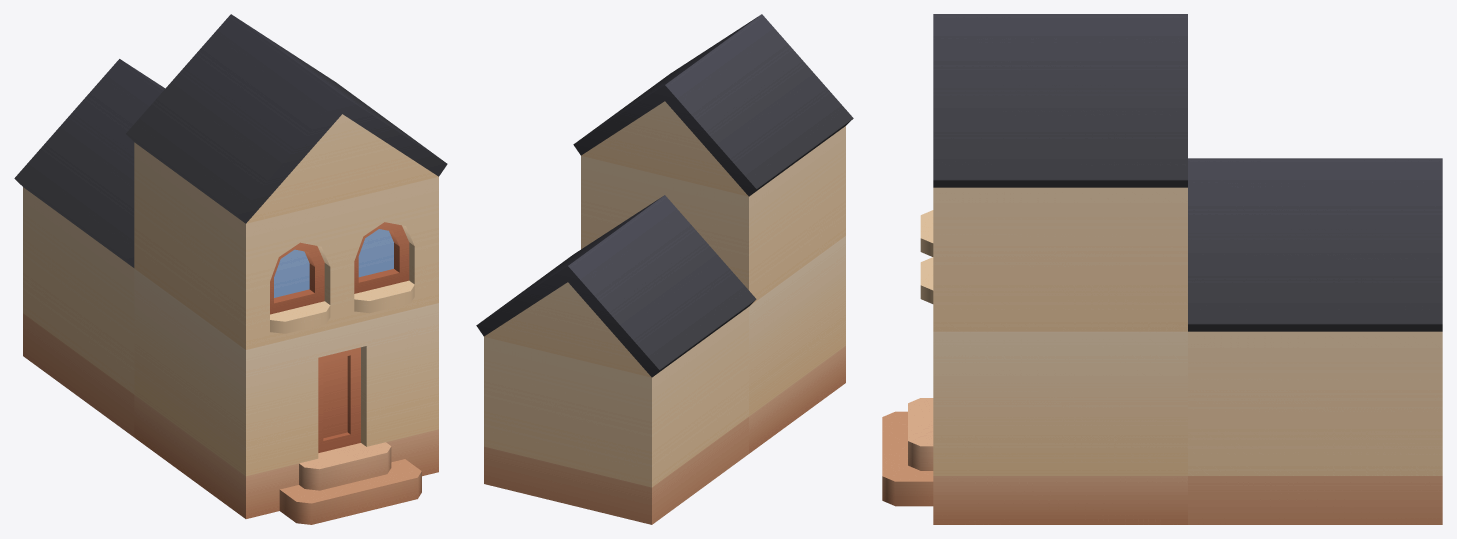
Rendered from building-sample-house-b.glb.
The picture shows the model from 3 angles, left to right: view 1: azimuth 30°, elevation 25°; view 2: azimuth 150°, elevation 25°; view 3: azimuth 270°, elevation 25°; orthographic projection. The views are drawn at different scales.
Parts seen in each view (by area): view 1: building-sample-house-b; view 2: building-sample-house-b; view 3: building-sample-house-b.
Part boxes in pixels (left/top/right/bottom): building-sample-house-b: left=14, top=14, right=447, bottom=524; building-sample-house-b: left=476, top=14, right=853, bottom=524; building-sample-house-b: left=882, top=14, right=1442, bottom=524.
Size of the model in its own units: 1.09 by 1.98 by 2.2.
1 material, 1 textured.
